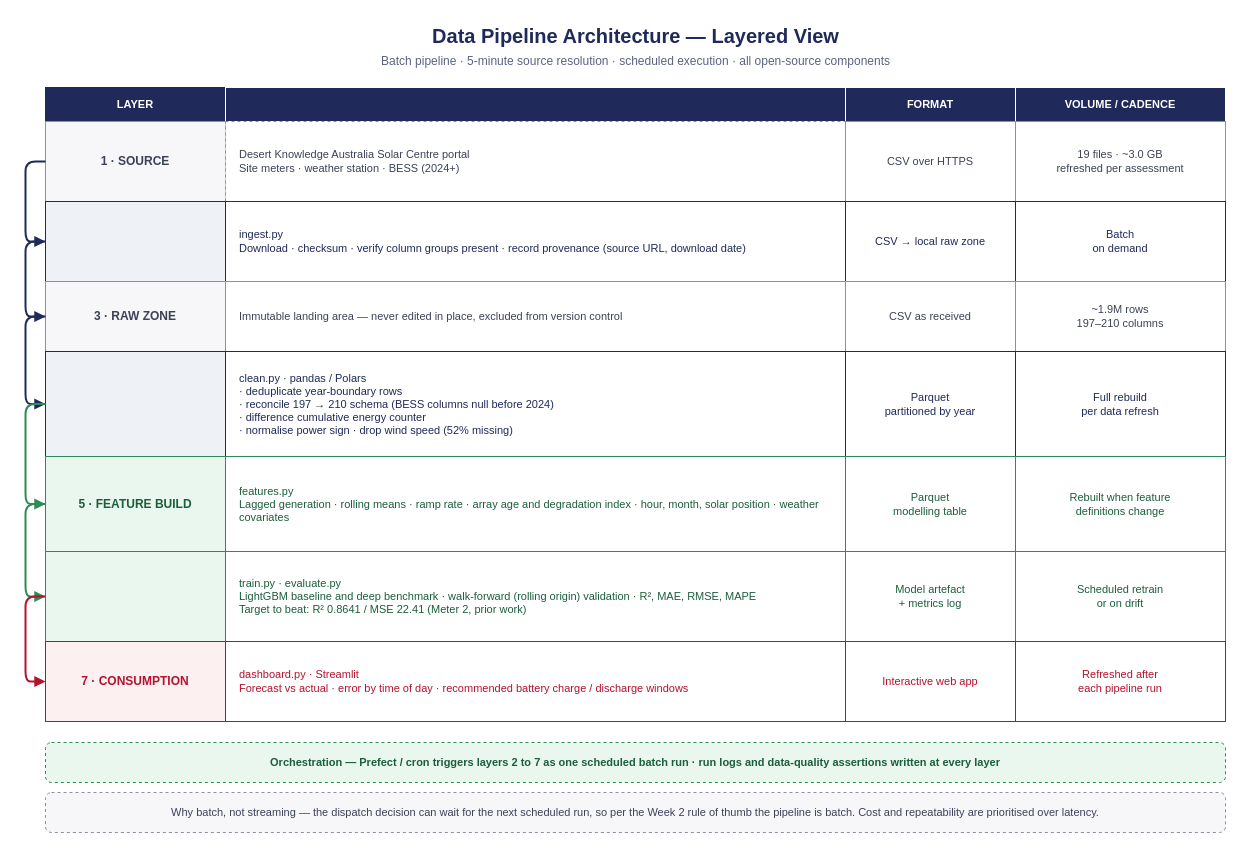
Image size: 1243x850. Some labels were removed from this diagram. Each missing label, with the centre of its shape:
2 · INGESTION: the point at 135,241
4 · PROCESSING: the point at 135,403
6 · ANALYTICS / ML: the point at 135,596
COMPONENT AND OPERATION: the point at 535,104
